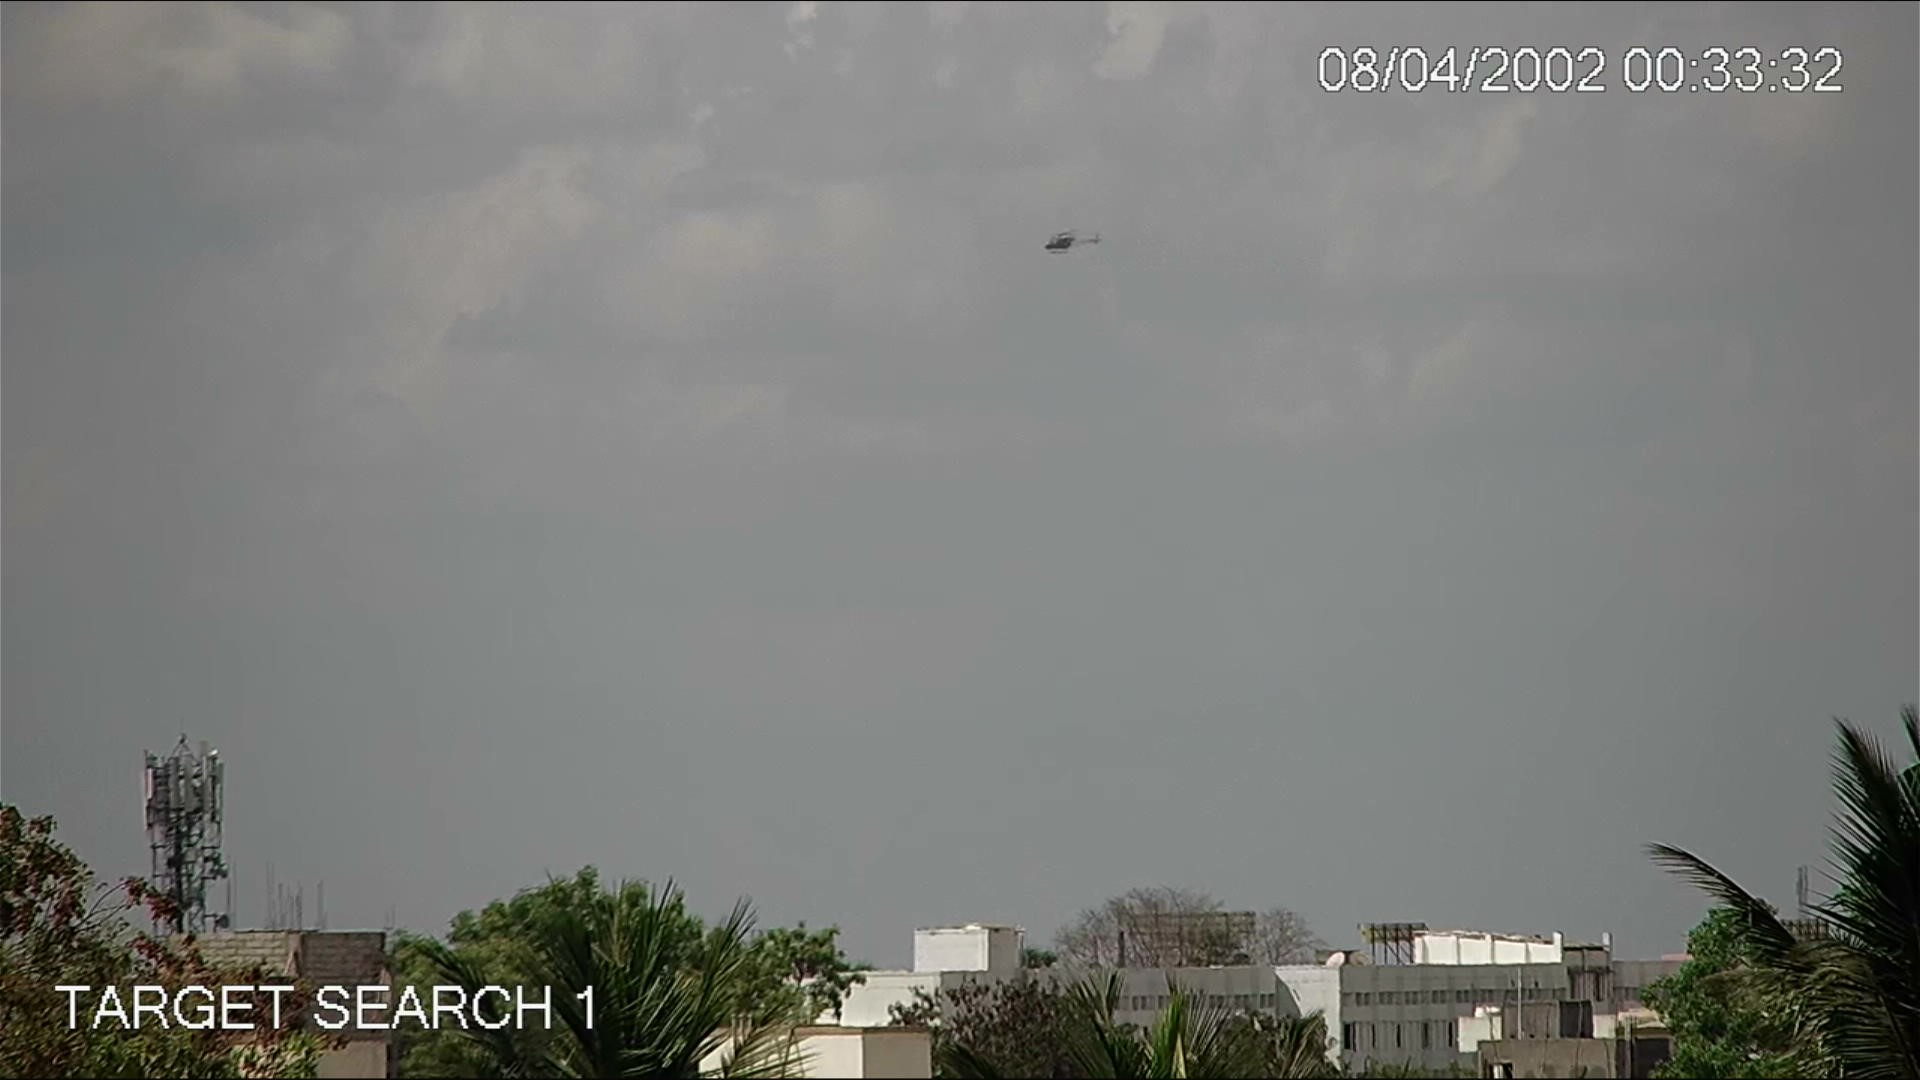SU_30: (1038, 225, 1109, 256)
